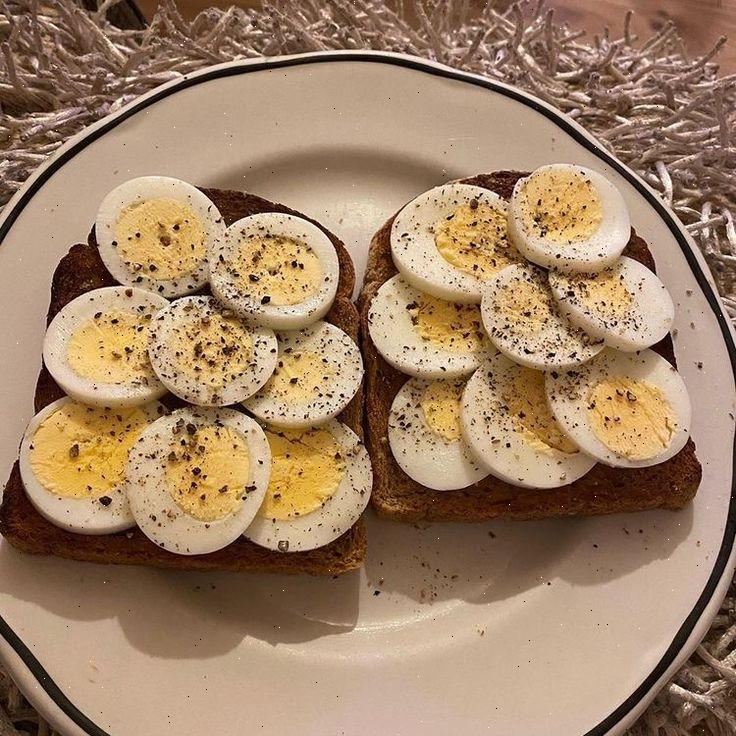eggs: (38, 174, 341, 552), (372, 166, 679, 494)
